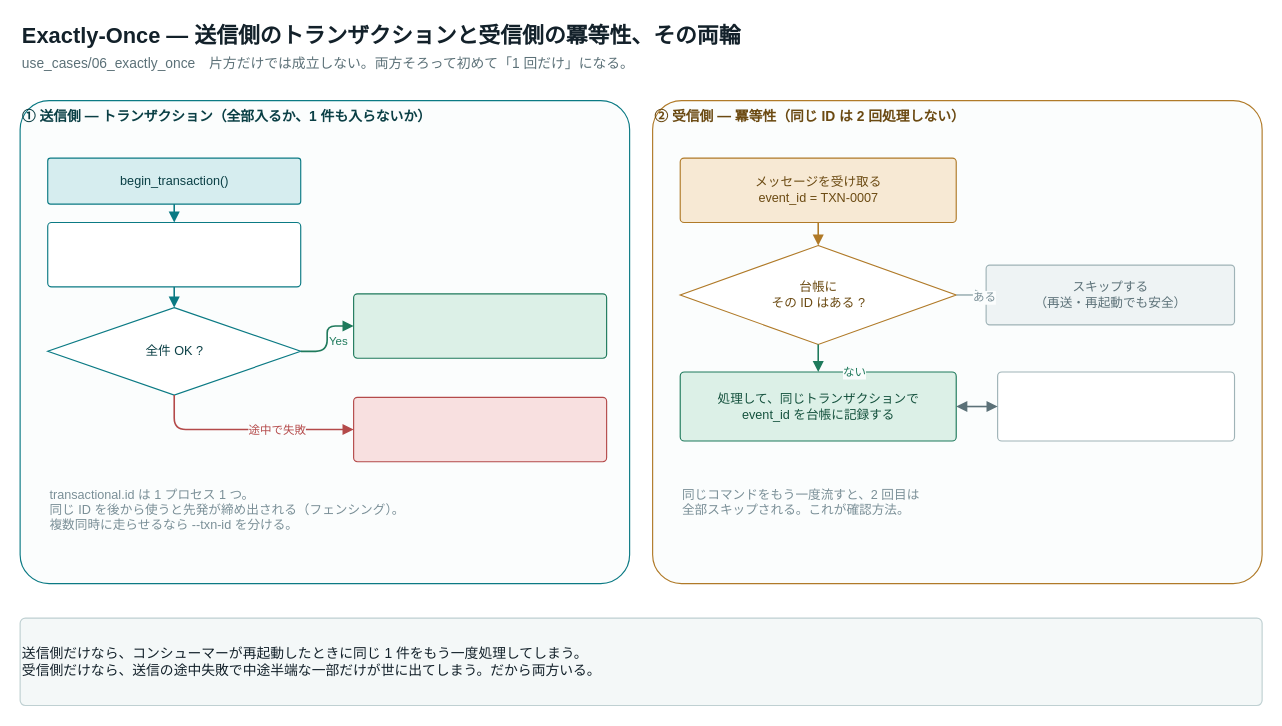
The diagram is 1282 pixels wide and 726 high, and some of its shapes have lost their labels. The centre of each missing label's shape, as x and y in pixels:
"abort_transaction() コンシューマーには 1 件も届かない" belongs at (479,429).
"commit_transaction() 5 件まとめて可視になる" belongs at (479,325).
"processed_ids 台帳 （SQLite）" belongs at (1115,406).
"produce() × 5 件 （まだ誰にも見えない）" belongs at (174,254).
